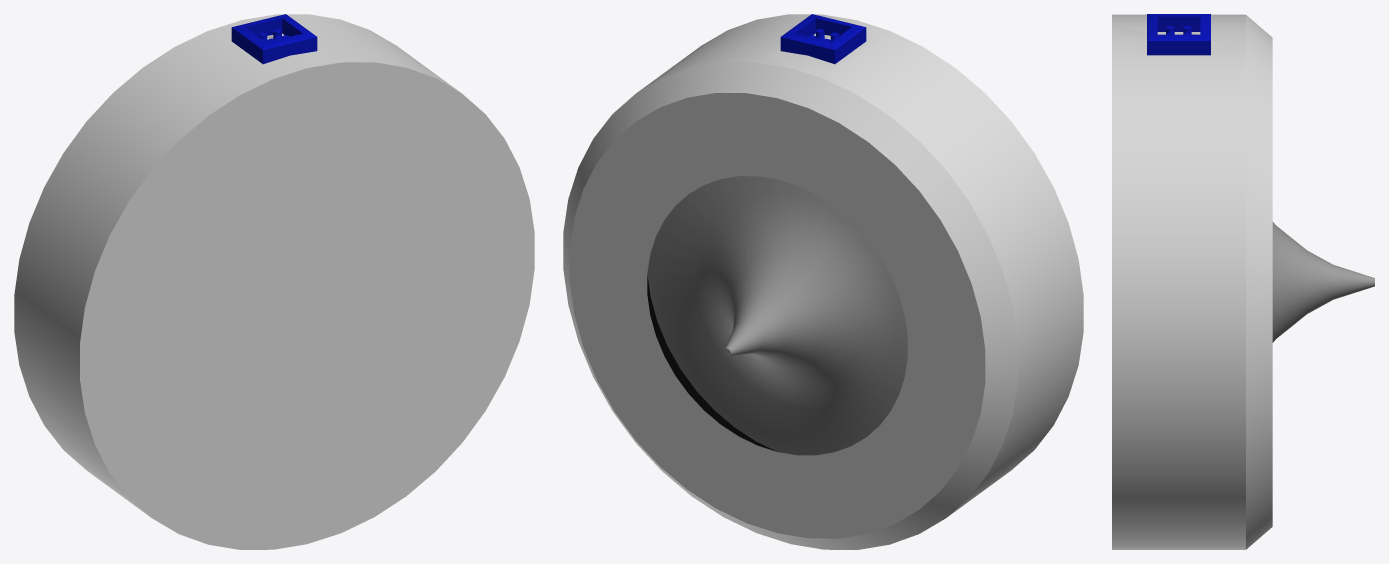
File: Thruster.gltf
3 views of the same model, side by side, from view 1: azimuth 30°, elevation 25°; view 2: azimuth 150°, elevation 25°; view 3: azimuth 270°, elevation 25° (orthographic).
Parts seen in each view (by area): view 1: thruster; view 2: thruster; view 3: thruster.
Part boxes in pixels (box(x1,y1,x2,y2)): thruster: box(14, 14, 534, 549); thruster: box(563, 14, 1083, 549); thruster: box(1112, 14, 1374, 549).
Size of the model in its own units: 0.5 by 0.5146 by 0.2456.
